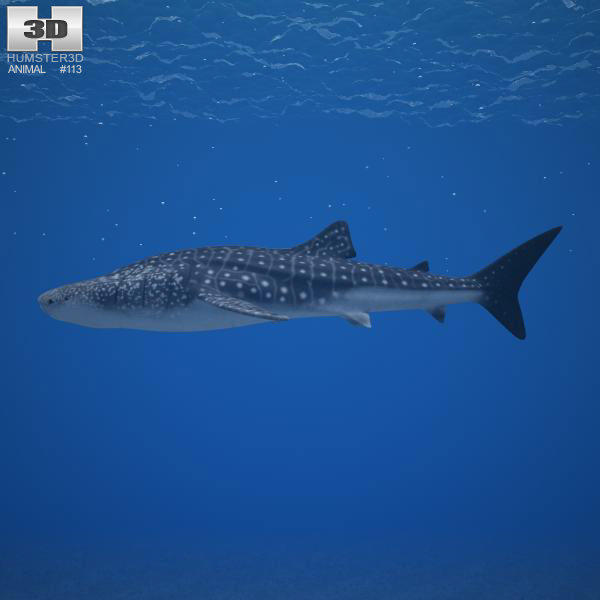Rhincodon_typusw: (25, 178, 560, 382)
